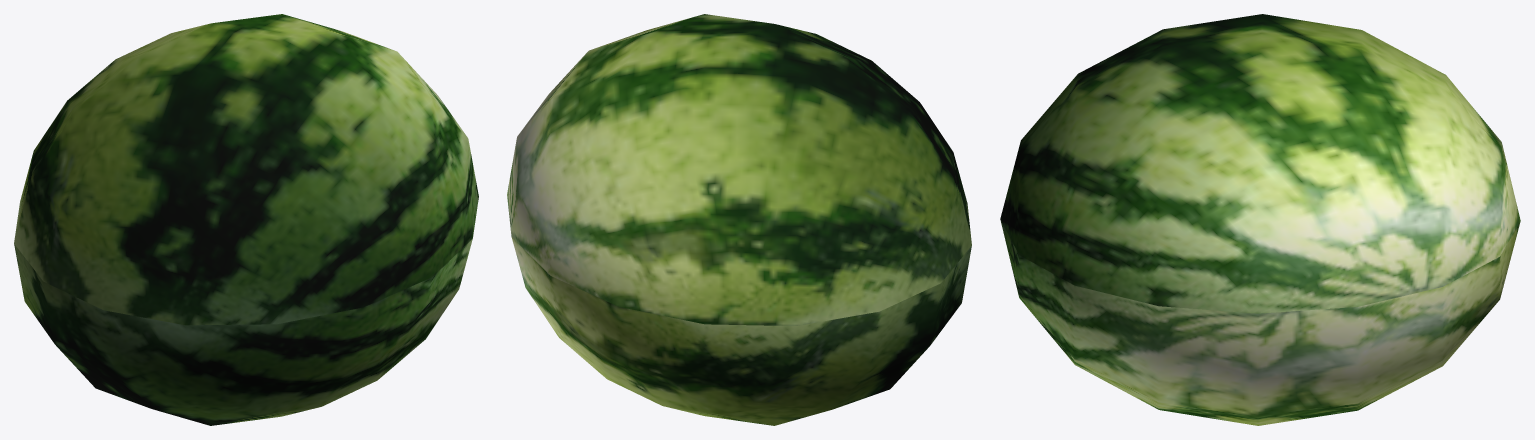
File: Melancia.fbx
3 views of the same model, side by side, from view 1: azimuth 30°, elevation 25°; view 2: azimuth 150°, elevation 25°; view 3: azimuth 270°, elevation 25° (orthographic). The views are drawn at different scales.
Visible parts, largest first — view 1: Melancia; view 2: Melancia; view 3: Melancia.
Part boxes in pixels (box(x1,y1,x2,y2)): Melancia: box(14, 14, 478, 425); Melancia: box(507, 14, 971, 425); Melancia: box(1000, 14, 1520, 425).
Size of the model in its own units: 127 by 130 by 105.
